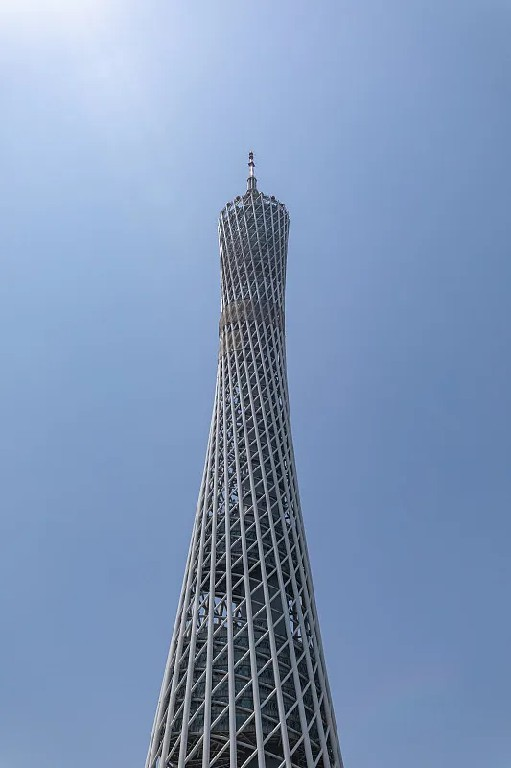Canton: (143, 148, 345, 766)
